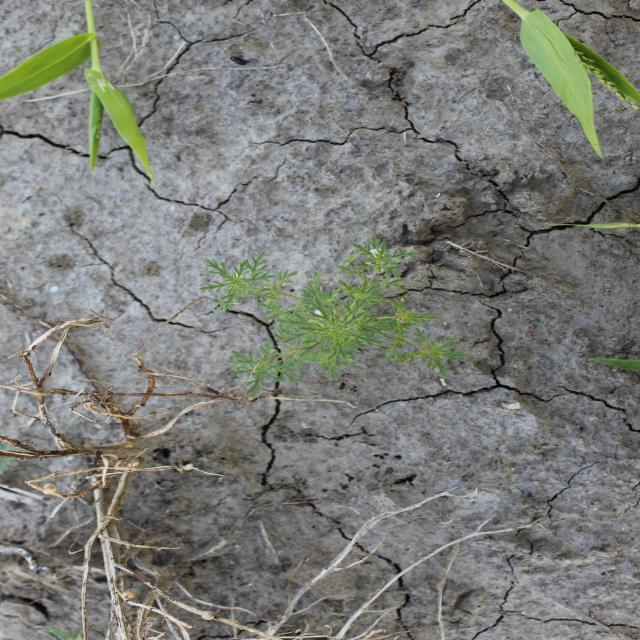Ragweed: (196, 236, 474, 399)
